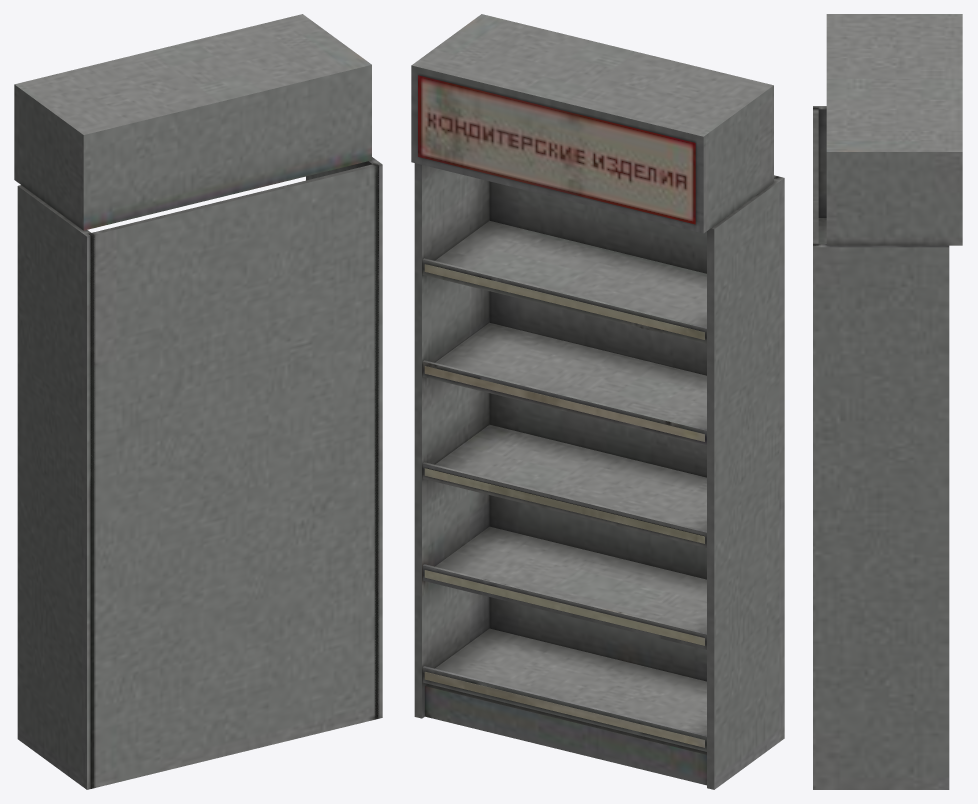
Rendered from wall_rack_konditer_lod1_web.glb.
3 views of the same model, side by side, from view 1: azimuth 30°, elevation 25°; view 2: azimuth 150°, elevation 25°; view 3: azimuth 270°, elevation 25° (orthographic). The views are drawn at different scales.
Parts seen in each view (by area): view 1: WallRackKonditer_Body; view 2: WallRackKonditer_Body; view 3: WallRackKonditer_Body.
Part boxes in pixels (x1,y1,x2,y2): WallRackKonditer_Body: [14, 14, 382, 789]; WallRackKonditer_Body: [411, 14, 784, 789]; WallRackKonditer_Body: [813, 14, 962, 789].
Size of the model in its own units: 1.23 by 2.58 by 0.554.
1 material, 1 textured.
